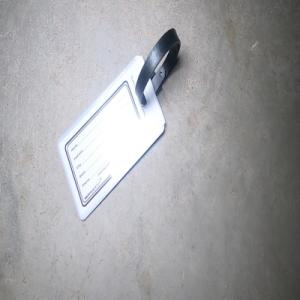LuggageTag: (56, 25, 181, 222)
